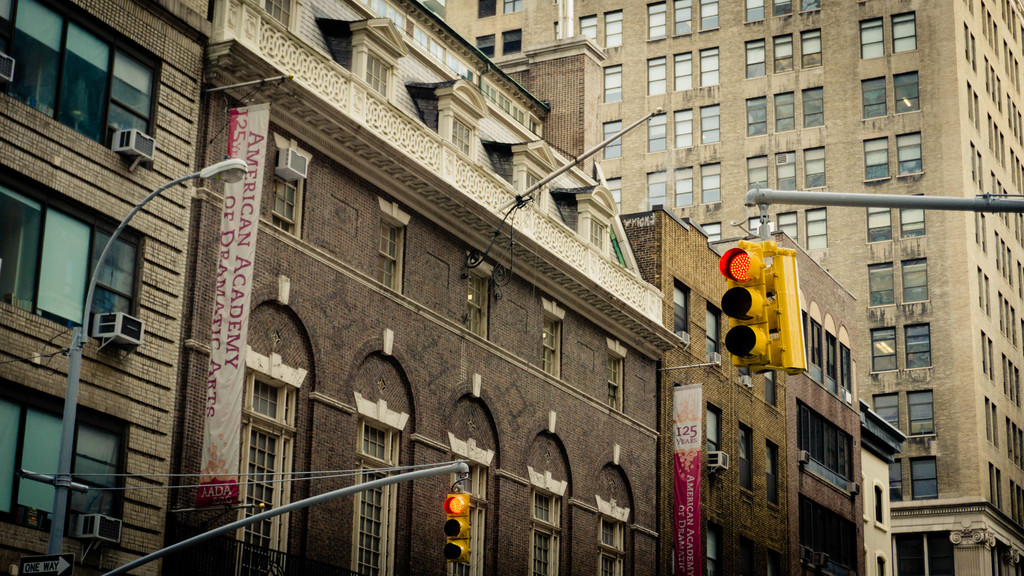red_light: (718, 249, 756, 286), (442, 493, 462, 517)
